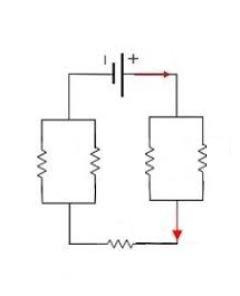resistor: (97, 233, 145, 259), (134, 132, 157, 184), (82, 134, 104, 184), (31, 139, 51, 186), (191, 131, 210, 172)
